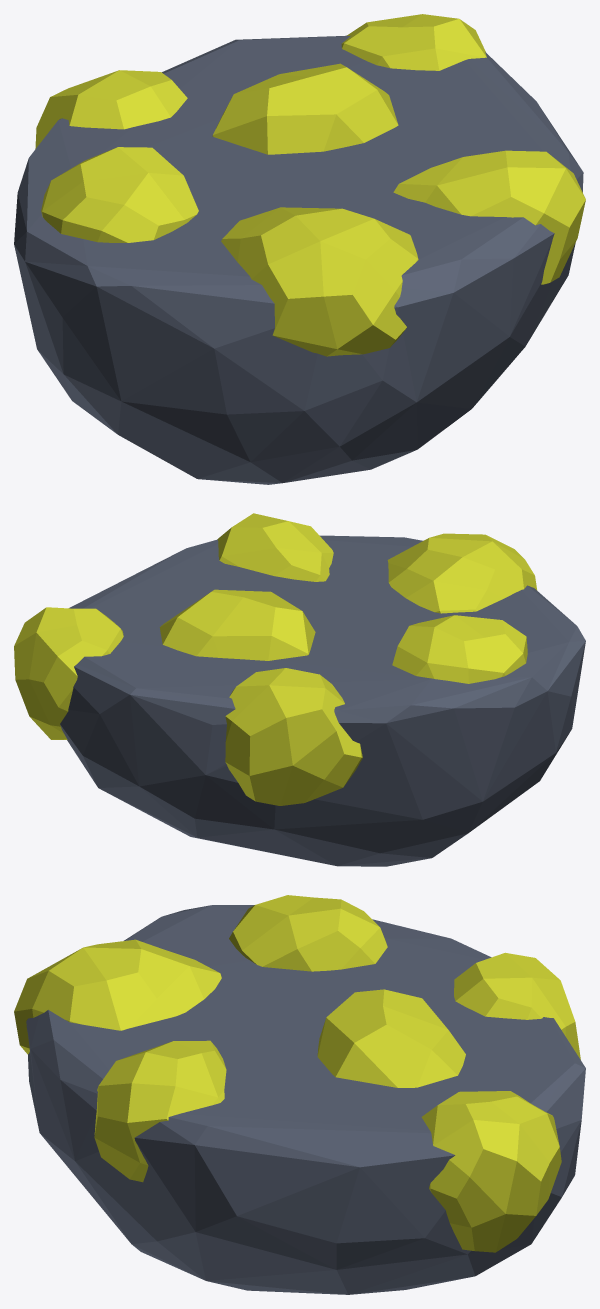
Rendered from ore.glb.
The picture shows the model from 3 angles, top to bottom: view 1: azimuth 30°, elevation 25°; view 2: azimuth 150°, elevation 25°; view 3: azimuth 270°, elevation 25°; orthographic projection. The views are drawn at different scales.
Parts seen in each view (by area): view 1: ore-col; view 2: ore-col; view 3: ore-col.
Part boxes in pixels (box(x1,y1,x2,y2)): ore-col: box(14, 14, 585, 484); ore-col: box(14, 513, 585, 866); ore-col: box(14, 895, 585, 1294).
Bounding box in the file's own units: 0.2172 × 0.1224 × 0.2058.
